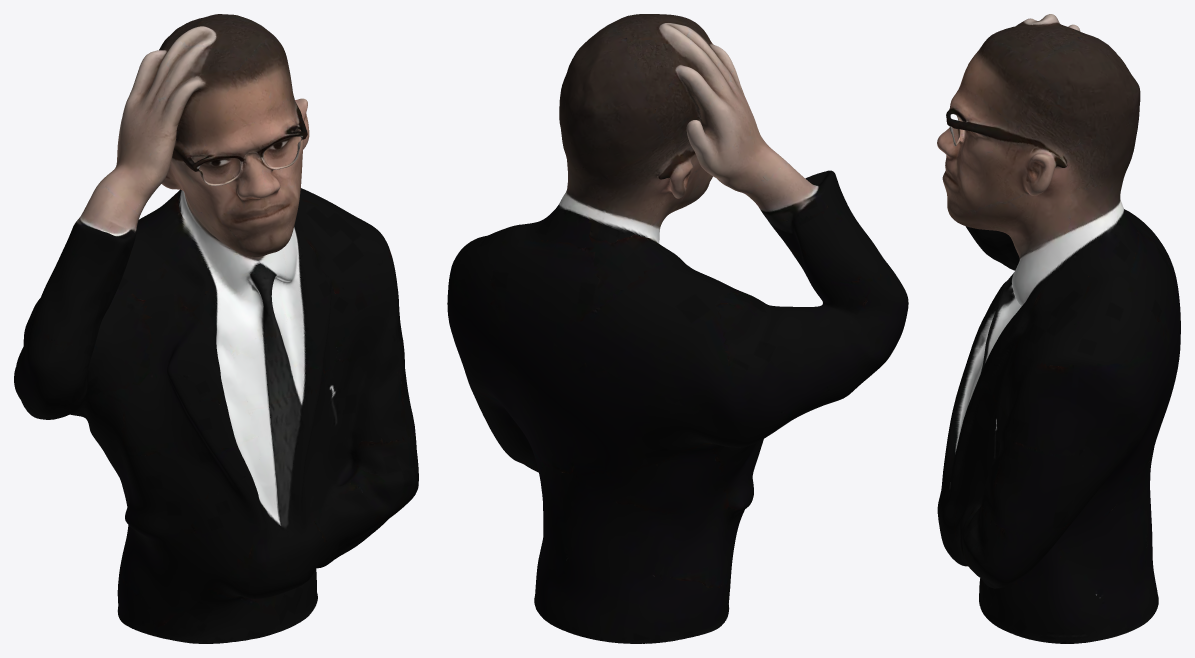
File: Meshy_AI_Pensive_Resolve_1025055426_texture_compressed_compressed (1).glb
The picture shows the model from 3 angles, left to right: view 1: azimuth 30°, elevation 25°; view 2: azimuth 150°, elevation 25°; view 3: azimuth 270°, elevation 25°; orthographic projection. The views are drawn at different scales.
Size of the model in its own units: 1.36 by 1.9 by 0.7334.
1 material, 1 textured.
